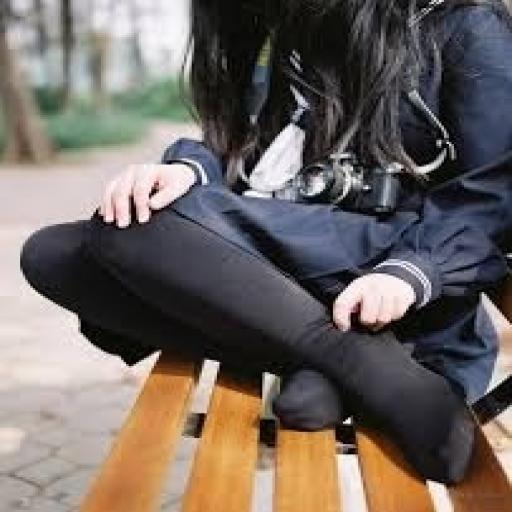sitting: (17, 0, 509, 487)
